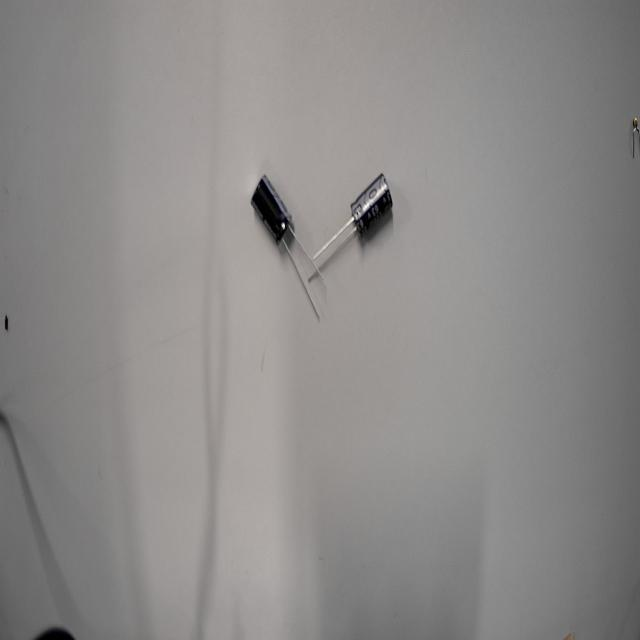capacitor_L: (239, 132, 300, 286), (341, 130, 401, 263)
